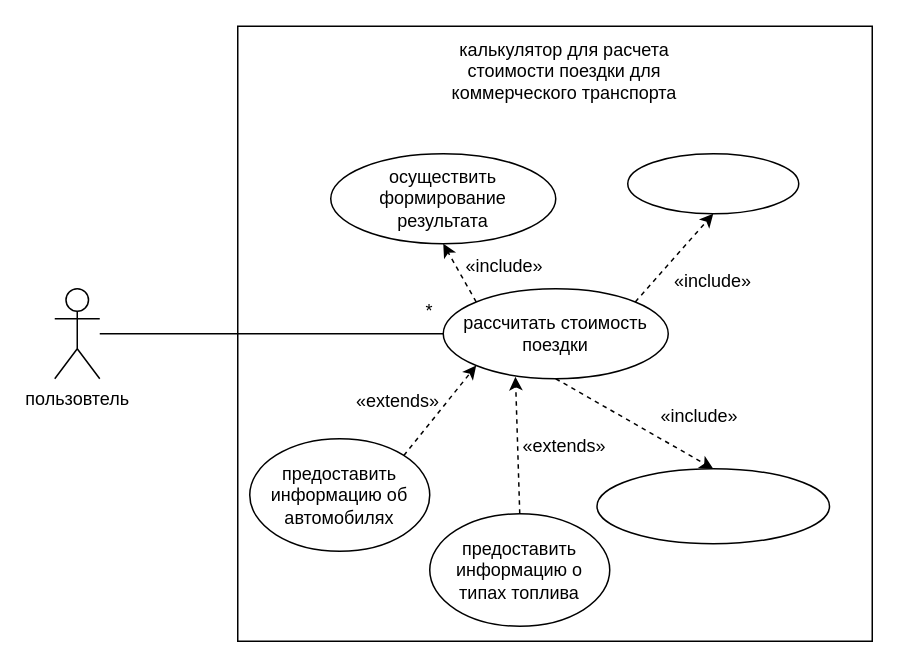
Image size: 899x668. Some labels were removed from this diagram. The shapes that lost their labels are listed below. From the top down, each one's centre as x and y in pixels, then its label:
At point (712, 183): "выбрать данные".
At point (713, 505): "ввести данные".
